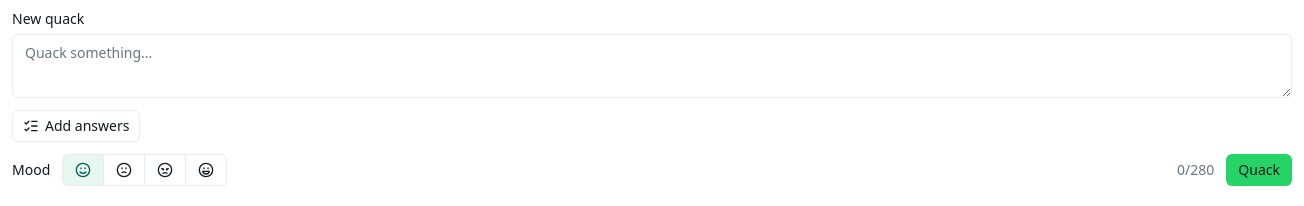
Test case: QuackForm › with a default mood from Settings › picks it again for the next quack
Type "grr" into the text box labelled "New quack" at x=652, y=66, box x1=12 y1=34 x2=1292 y2=98
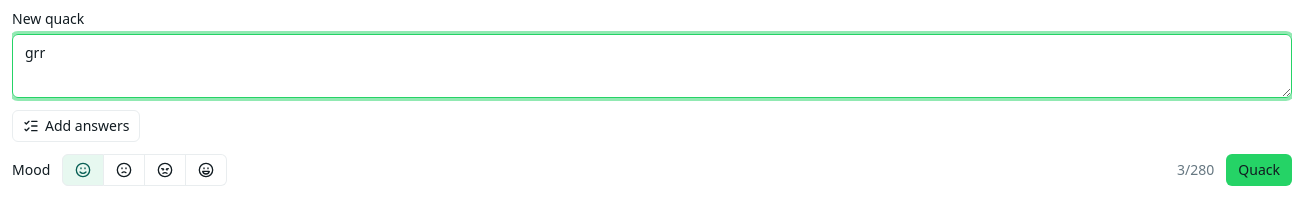
Click the radio button named "Angry" at x=166, y=170, box x1=145 y1=154 x2=186 y2=186
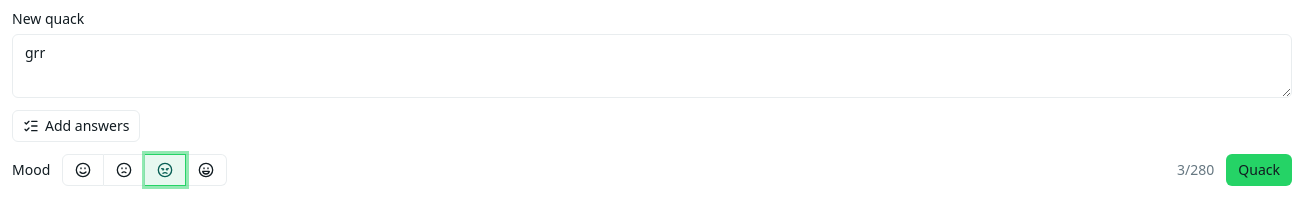
Click the button "Quack" at x=1259, y=170, box x1=1226 y1=154 x2=1292 y2=186
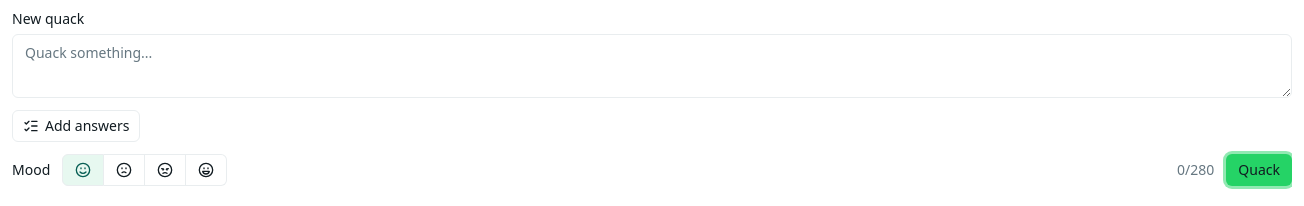
Check: the text box labelled "New quack" is empty, box x1=12 y1=34 x2=1292 y2=98
Check: the radio button named "Happy" is checked, box x1=62 y1=154 x2=104 y2=186
